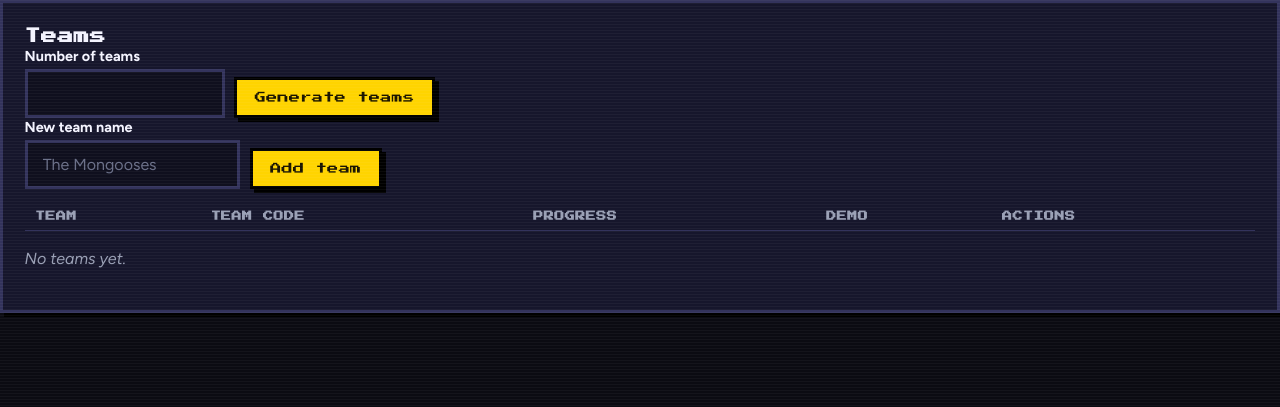
TeamsPanel › surfaces the refusal when the game is already live
Type "4" into the number field labelled "Number of teams" at (125,94), box [25,69,225,118]
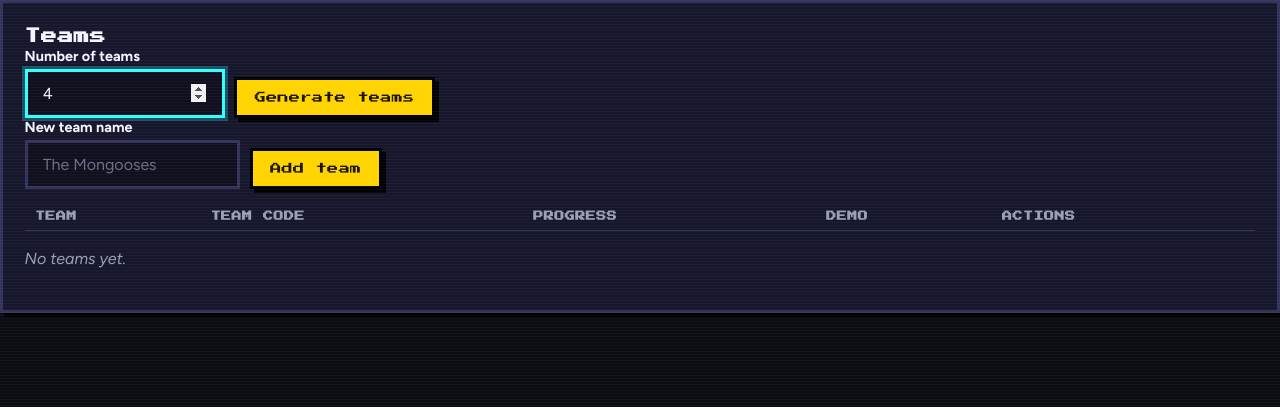
Click the button "Generate teams" at (335,98), box [234,77,435,118]
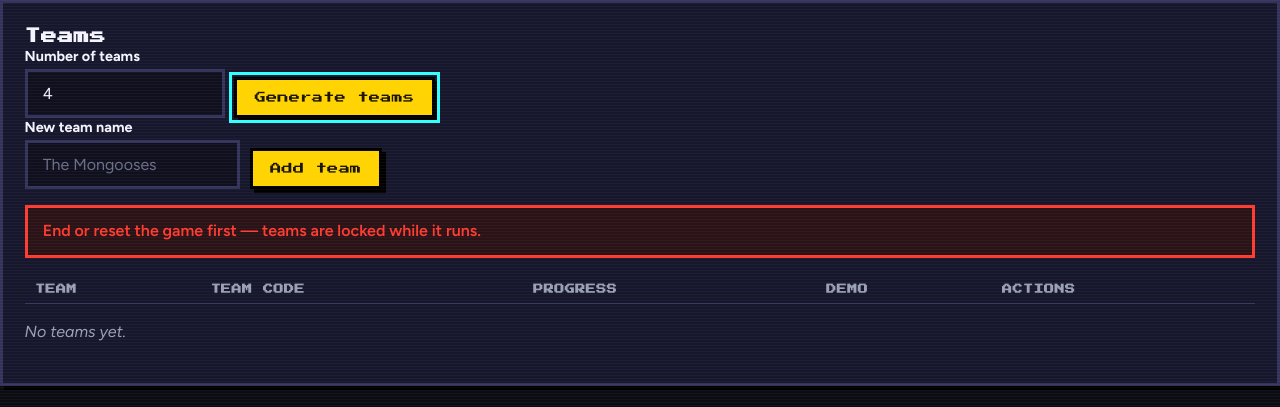
Expected: the text "End or reset the game first — teams are locked while it runs." is shown, [25,205,1255,258]
